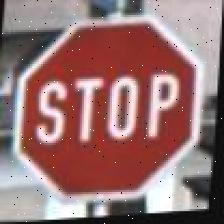Stop: (6, 7, 207, 208)
